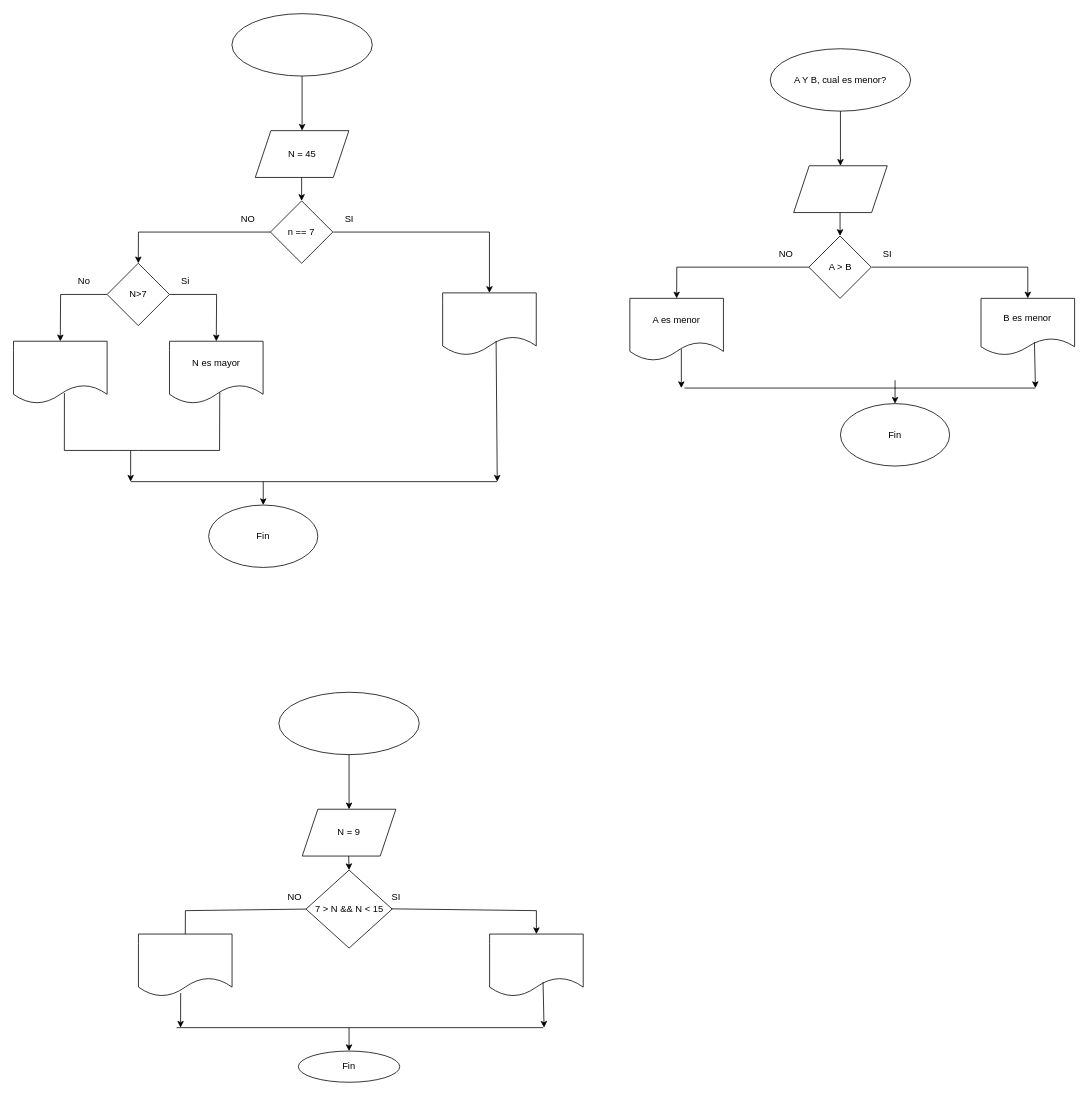
Some shapes in this 1089 by 1096 pixel diagram are drawn without their labels. The centre of each missing label's shape, as x and y in pixels:
A = 8, B = 5: [840,189]
Es N mayor a 7: [301,44]
N dentro del rango 7 y 15: [348,723]
N es igual: [489,323]
N es menor: [60,372]
N esta dentro del rango: [536,964]
N esta fuera del rango: [185,964]
